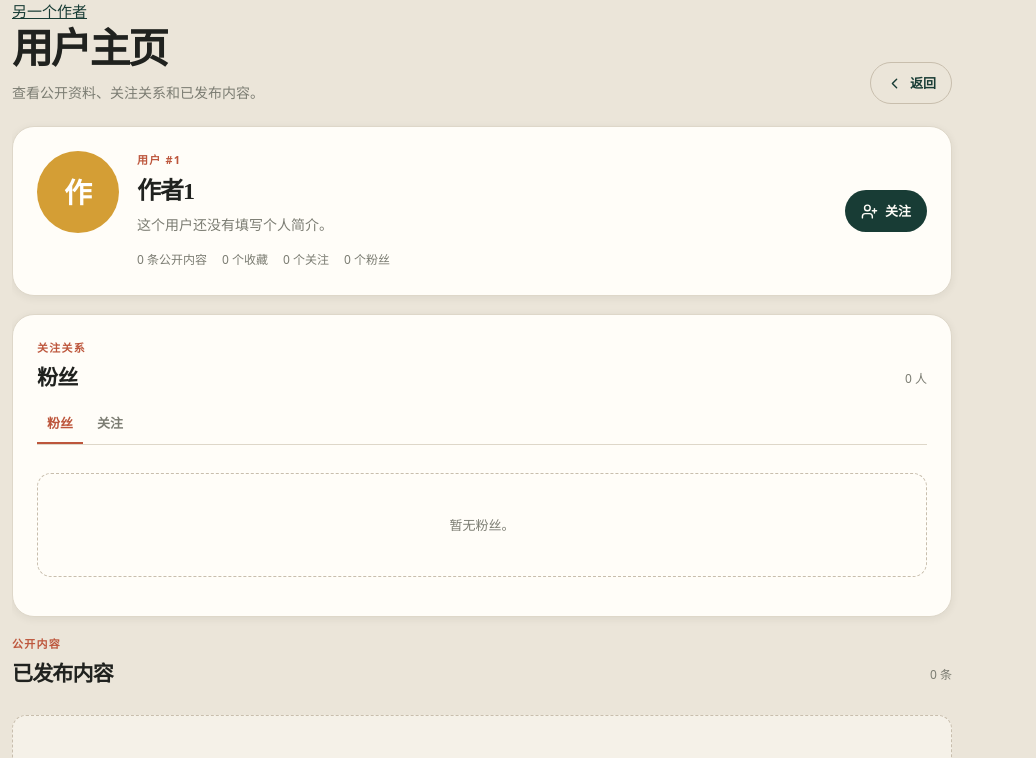
Scenario: 公开主页的分区状态 › falls back after a profile avatar fails and loads the next author avatar
The image size is (1036, 758).
Check: the element showing "作" is shown, box [37, 151, 119, 233]
Check: the heading "作者1" is shown, box [137, 178, 194, 204]
What coordinates should you click on to do the following:
click the link "另一个作者"
I would click on:
 (50, 12)
Its box is [12, 4, 87, 20].
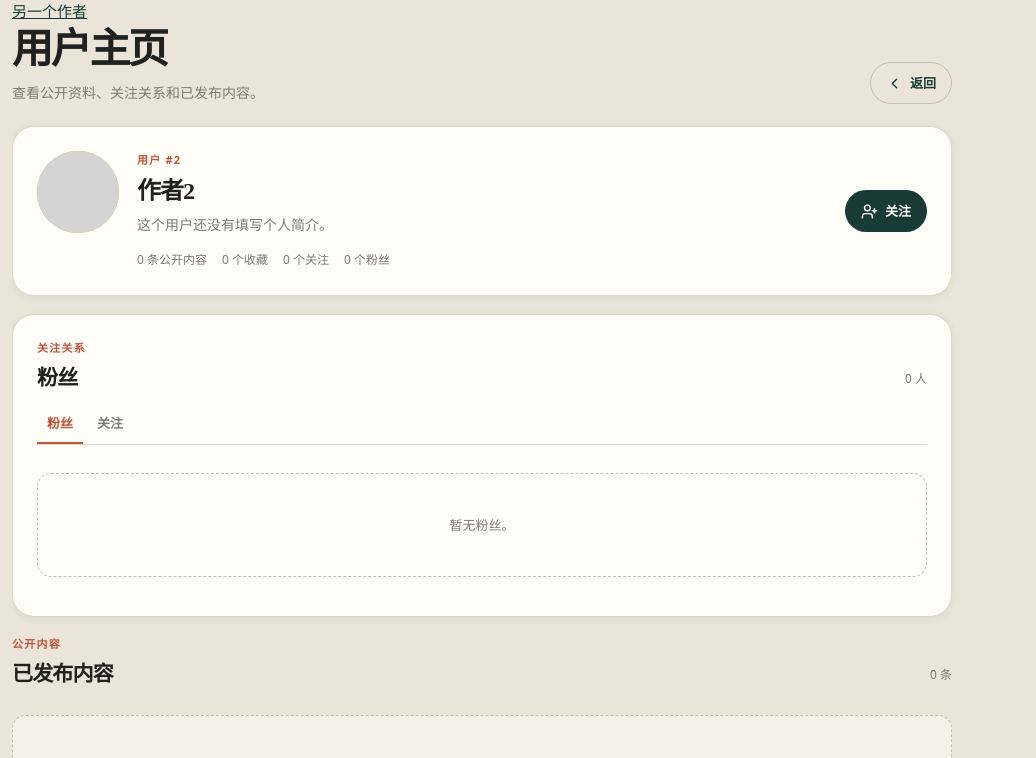
Check: the heading "作者1" is gone
